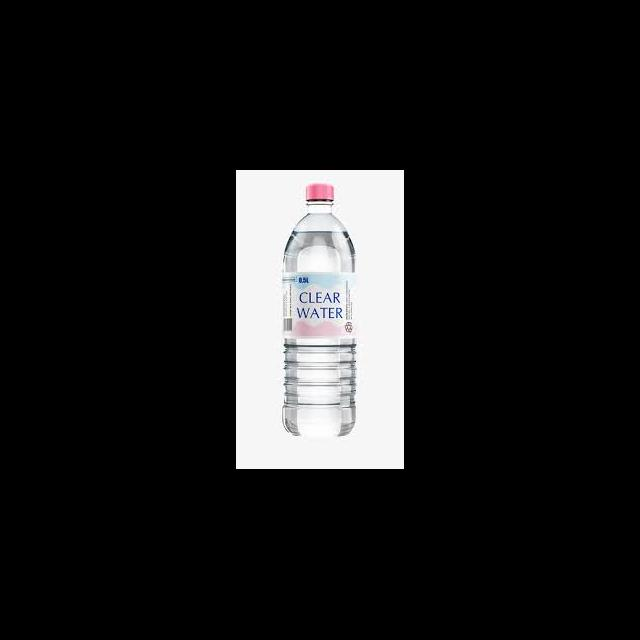plastic: (281, 183, 354, 434), (281, 272, 355, 338), (304, 184, 333, 203)
